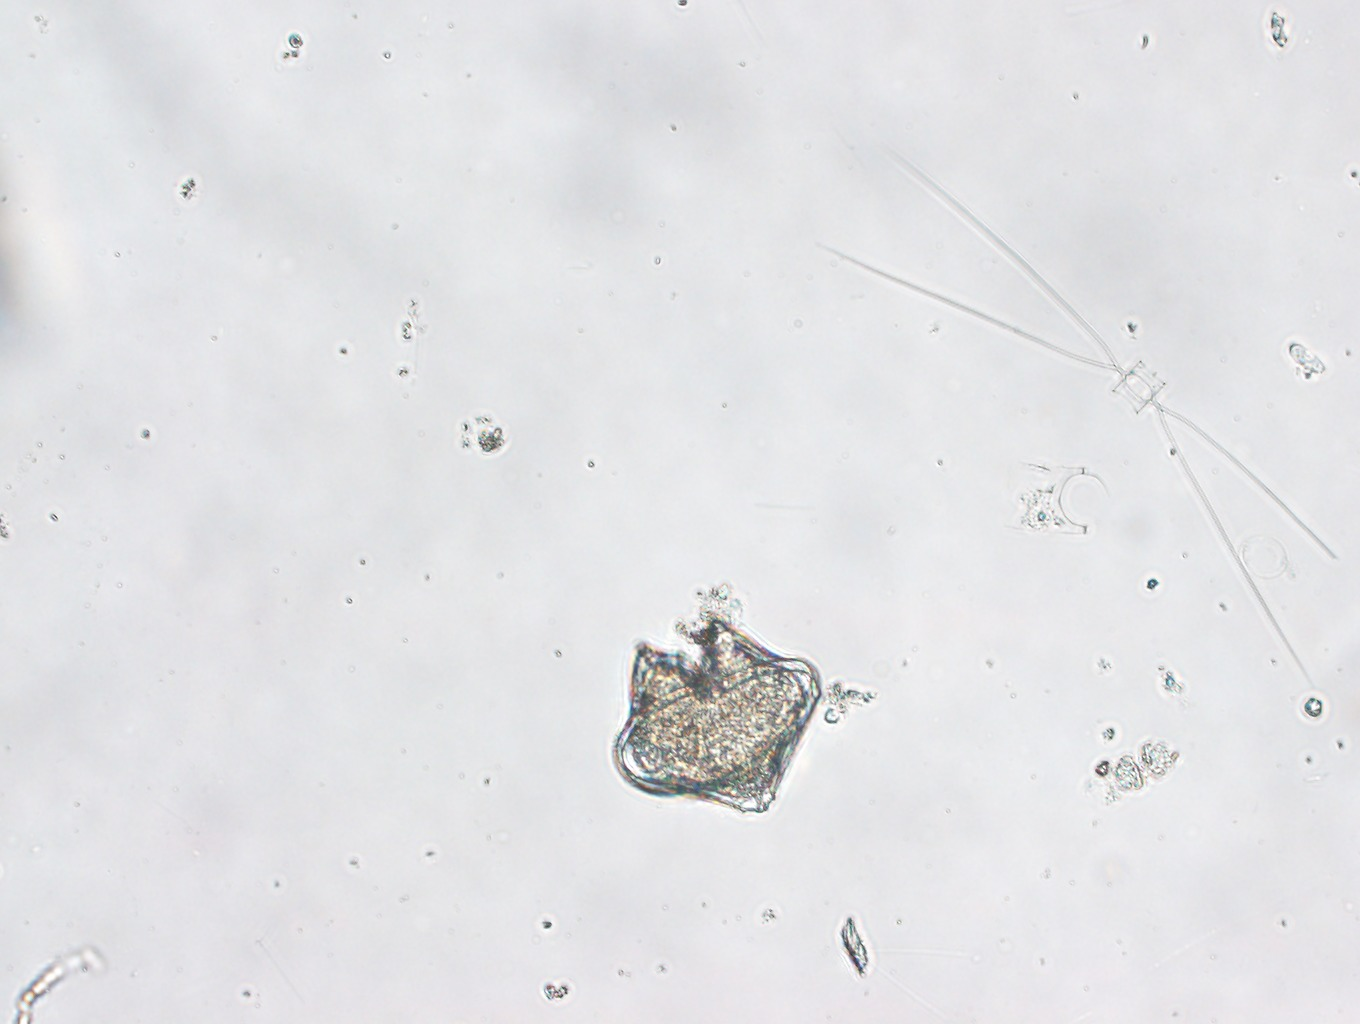chaetoceros: (820, 146, 1337, 687)
protoperidinium: (616, 618, 822, 813)
